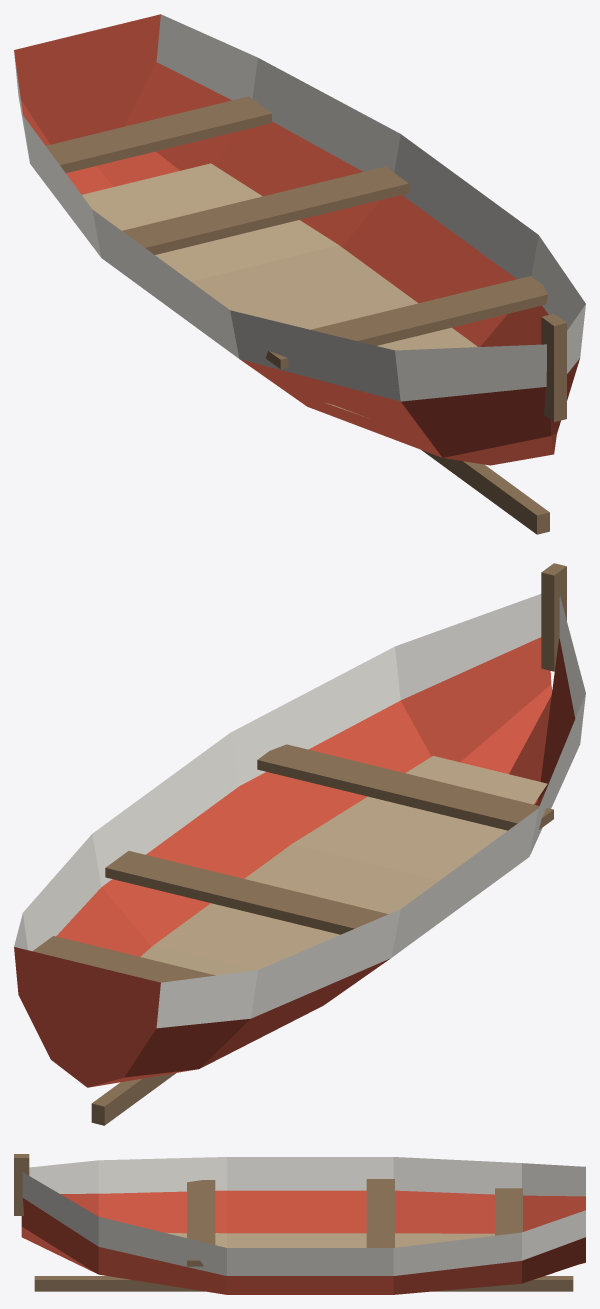
The model's file is boat_red.glb.
3 views of the same model, one above another, from view 1: azimuth 30°, elevation 25°; view 2: azimuth 150°, elevation 25°; view 3: azimuth 270°, elevation 25° (orthographic). The views are drawn at different scales.
Parts seen in each view (by area): view 1: SG_Boat_Red; view 2: SG_Boat_Red; view 3: SG_Boat_Red.
Boxes of the visible parts, box(x1,y1,x2,y2) form: SG_Boat_Red: box(14, 14, 585, 534); SG_Boat_Red: box(14, 563, 585, 1125); SG_Boat_Red: box(14, 1154, 585, 1294).
Size of the model in its own units: 1.68 by 1.15 by 4.46.
